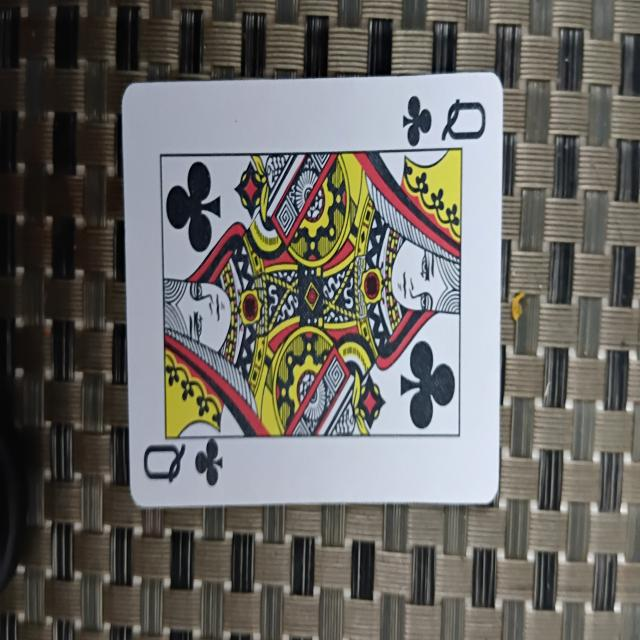QC: (125, 75, 501, 502)
